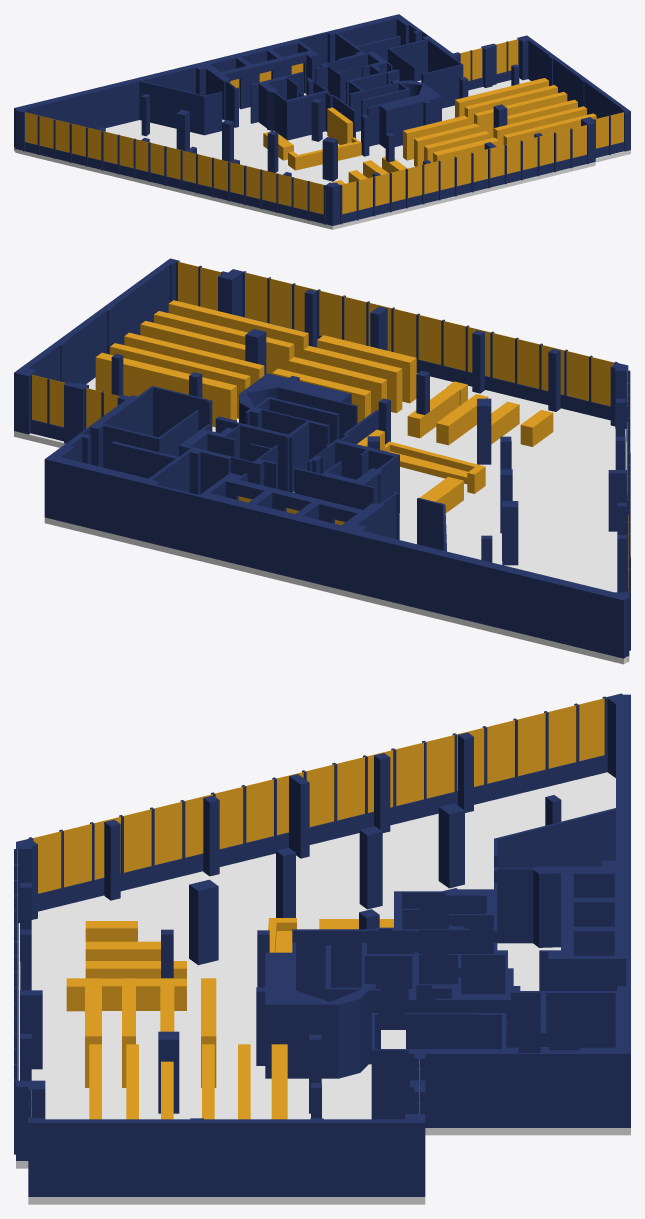
Rendered from 1855B 2nd Floor.fbx.
3 renders of one model, top to bottom at view 1: azimuth 30°, elevation 25°; view 2: azimuth 150°, elevation 25°; view 3: azimuth 270°, elevation 25°, orthographic. The views are drawn at different scales.
Visible parts, largest first — view 1: Walls, Interior Member, Object_7; view 2: Walls, Interior Member, Object_7; view 3: Walls, Object_7, Interior Member.
Part boxes in pixels (bbox=[...]): Walls: bbox=[14, 14, 630, 225]; Interior Member: bbox=[25, 39, 623, 214]; Object_7: bbox=[14, 78, 630, 229]; Walls: bbox=[14, 258, 630, 658]; Interior Member: bbox=[32, 261, 628, 590]; Object_7: bbox=[14, 373, 629, 664]; Walls: bbox=[14, 693, 630, 1196]; Object_7: bbox=[16, 772, 630, 1204]; Interior Member: bbox=[17, 698, 604, 1119].
Size of the model in its own units: 1494 by 907 by 132.
